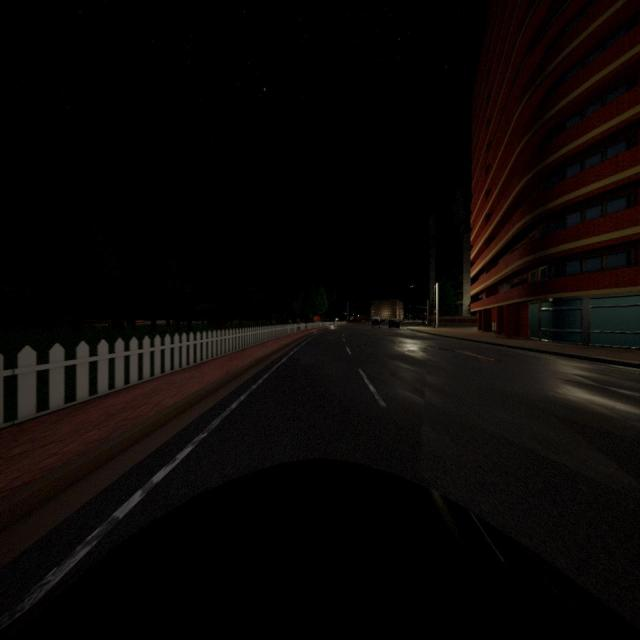Vehicle: (0, 461, 640, 640), (388, 318, 400, 330), (371, 317, 381, 329)
